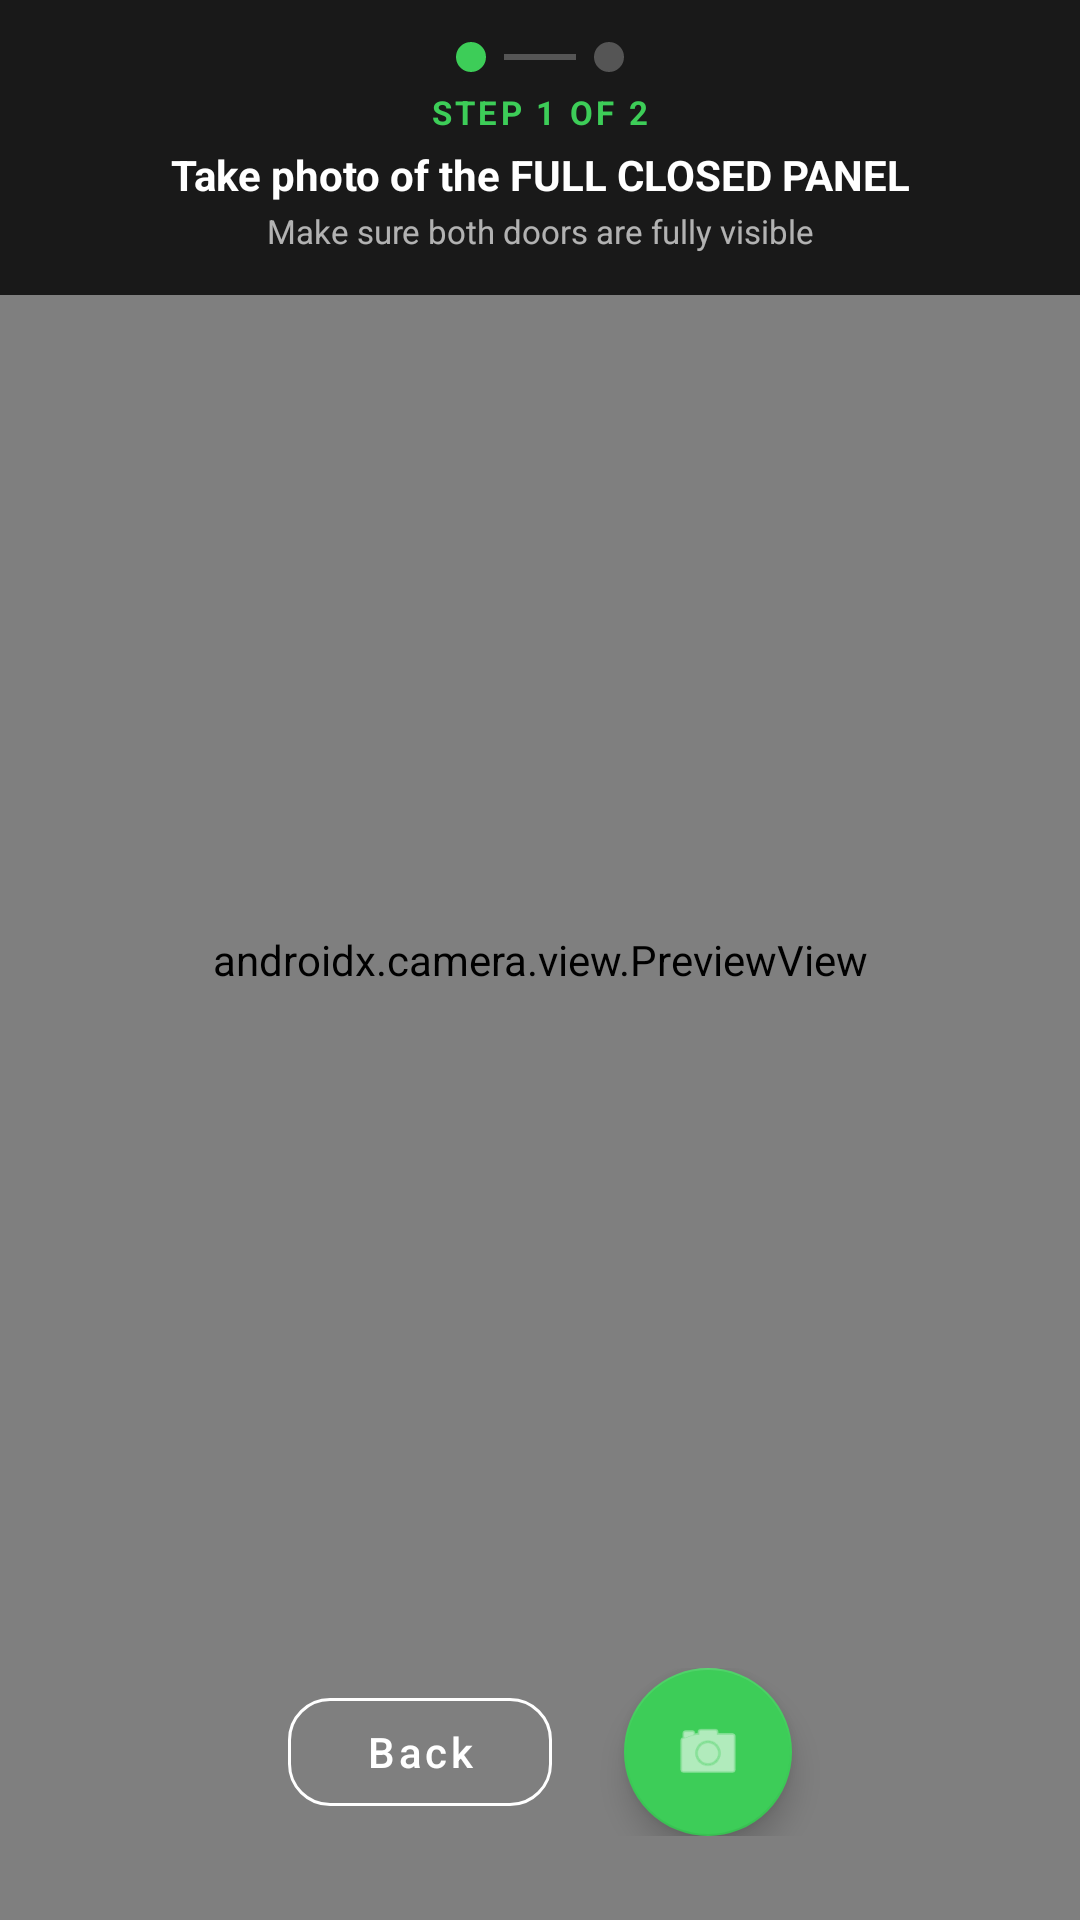

Icon bounding boxes for this 1080 × 1920 phone screenshot, format (x1=x1, y1=y1, x2=x2, y2=y2):
Capture: (x1=624, y1=1668, x2=792, y2=1836)
